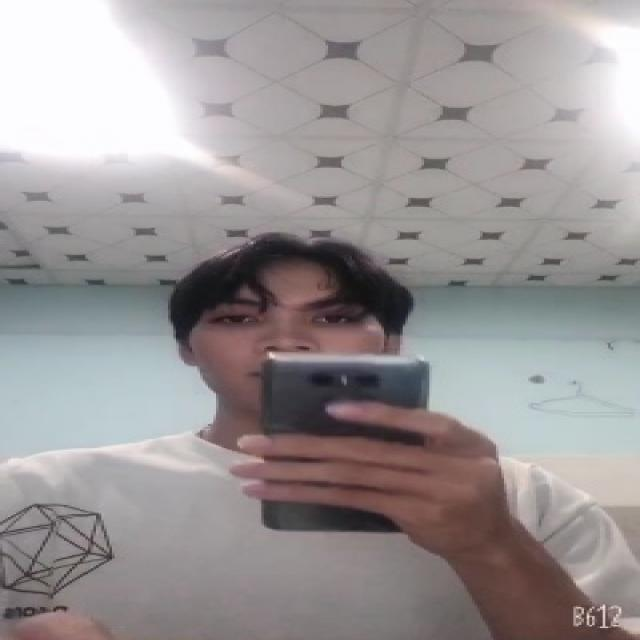Phone: (258, 352, 432, 532)
